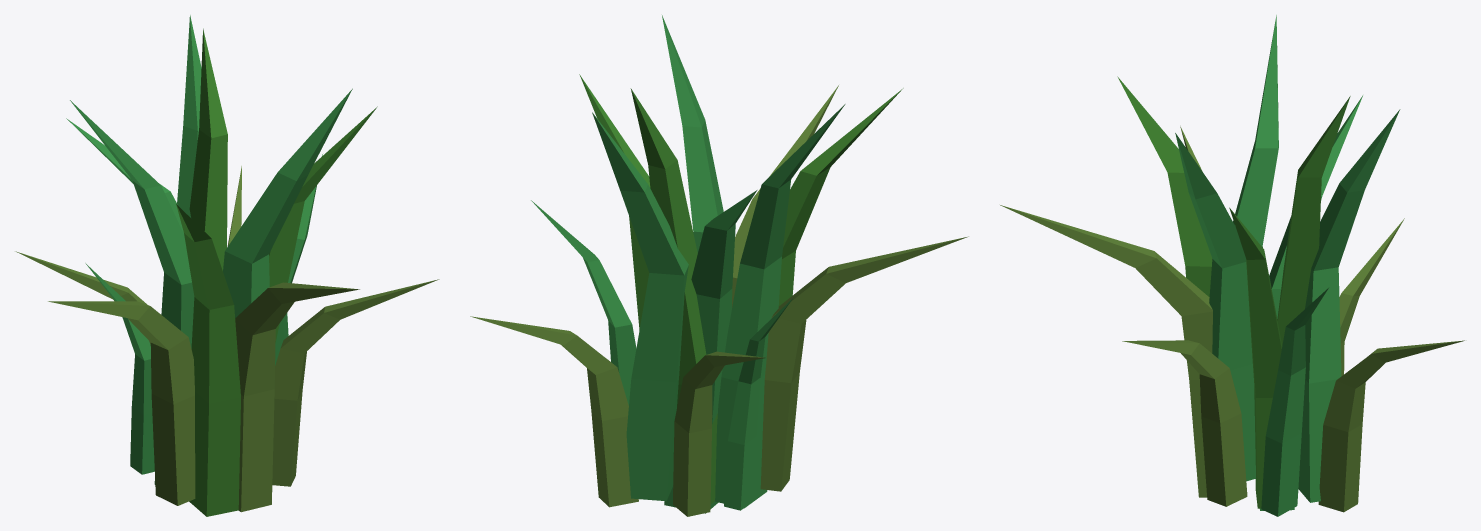
File: LumpOfGrass2.fbx
3 renders of one model, left to right at view 1: azimuth 30°, elevation 25°; view 2: azimuth 150°, elevation 25°; view 3: azimuth 270°, elevation 25°, orthographic. The views are drawn at different scales.
Parts seen in each view (by area): view 1: LumpOfGrass2; view 2: LumpOfGrass2; view 3: LumpOfGrass2.
Part boxes in pixels (x1,y1,x2,y2): LumpOfGrass2: [15, 15, 439, 516]; LumpOfGrass2: [470, 15, 968, 516]; LumpOfGrass2: [1000, 15, 1464, 516].
Bounding box in the file's own units: 143 × 161 × 164.
